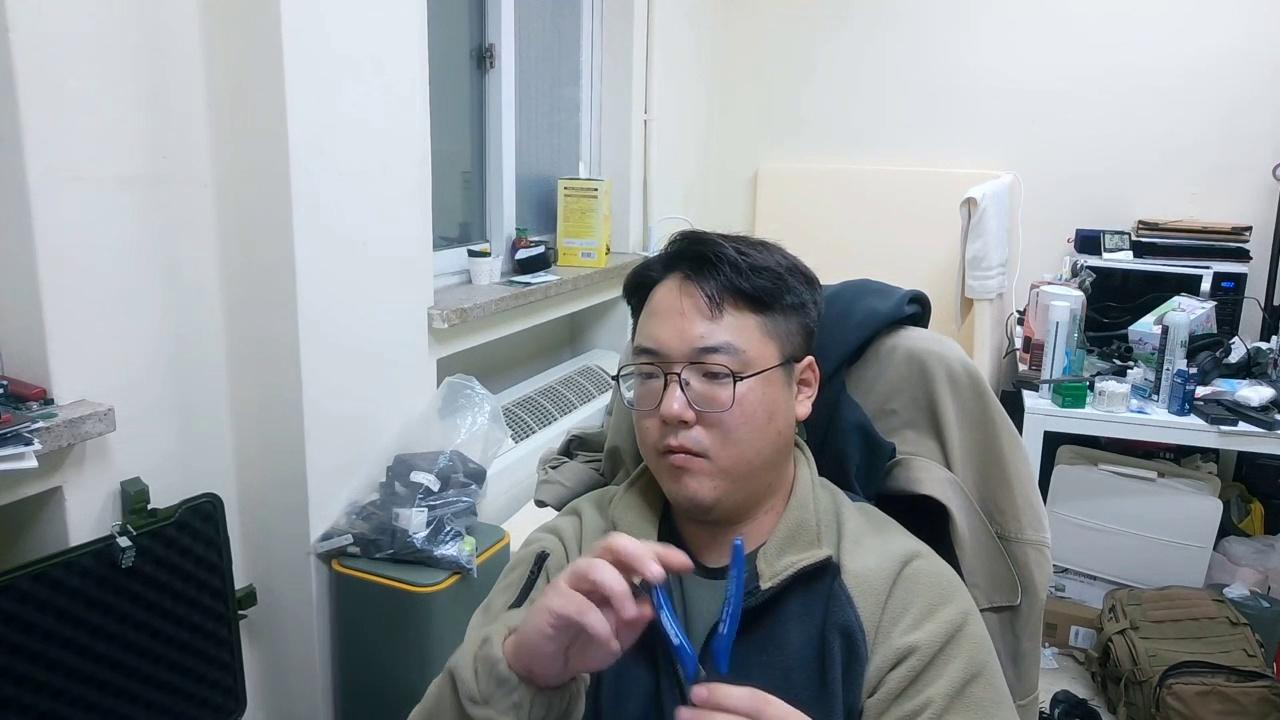blue_pliers: (633, 534, 751, 719)
